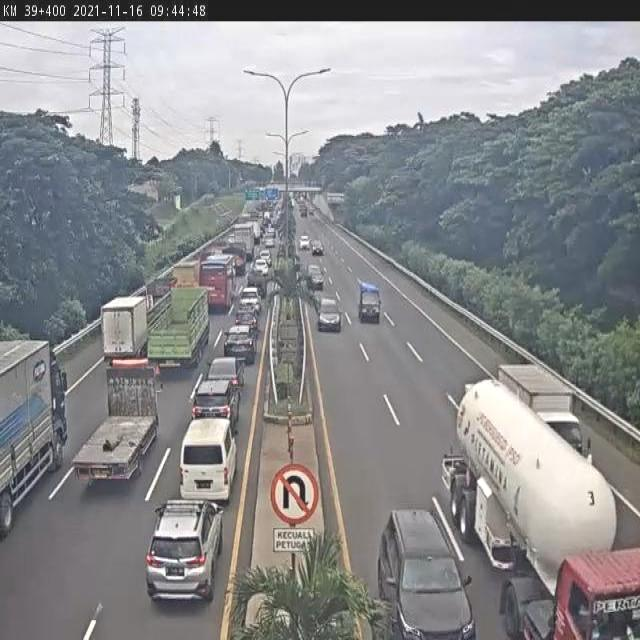Bus: (200, 254, 233, 308)
Car: (376, 510, 475, 639), (144, 499, 227, 606), (192, 376, 242, 434), (206, 356, 244, 399), (224, 324, 258, 363), (316, 296, 342, 332), (239, 290, 261, 317), (308, 264, 324, 290), (253, 258, 269, 276), (258, 249, 272, 265), (311, 240, 324, 256), (299, 235, 310, 250), (265, 236, 275, 249)
Truck: (442, 378, 640, 640), (0, 335, 69, 533), (72, 356, 163, 489), (146, 287, 210, 368), (100, 295, 146, 365), (358, 283, 382, 322)
Van: (178, 415, 238, 501)
